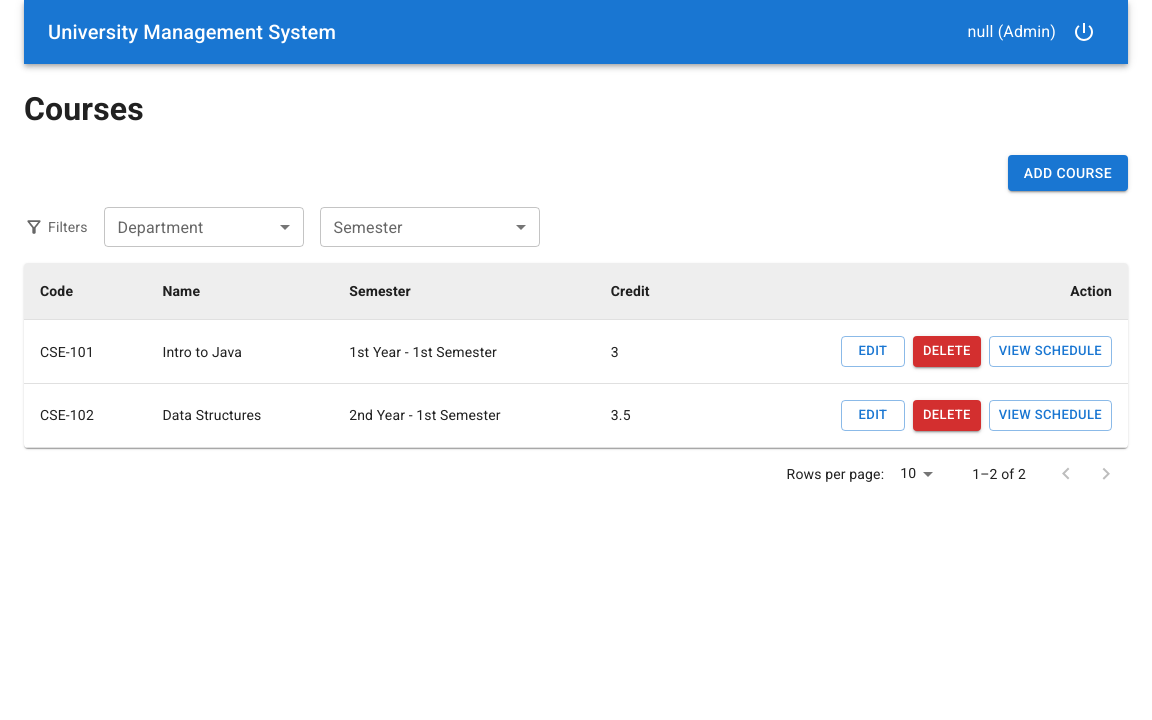
Test: CoursePage › sends PUT with correct payload on Update
Check: the text "Intro to Java" is shown, box x1=146 y1=320 x2=333 y2=384
Step 1. Click the button "Edit" in the row of "CSE-101" → (873, 352), box x1=841 y1=336 x2=905 y2=367
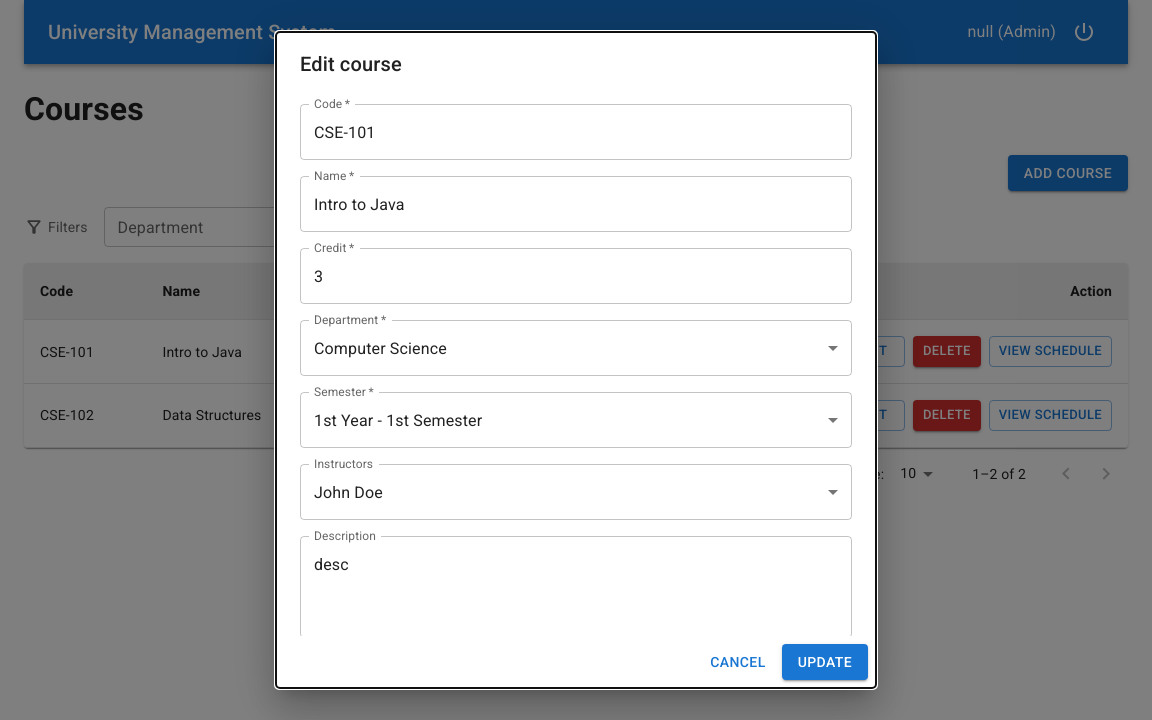
Step 2. Replace the text in the field labelled "Name *" with "Java Updated" → (576, 204), box x1=300 y1=176 x2=852 y2=232
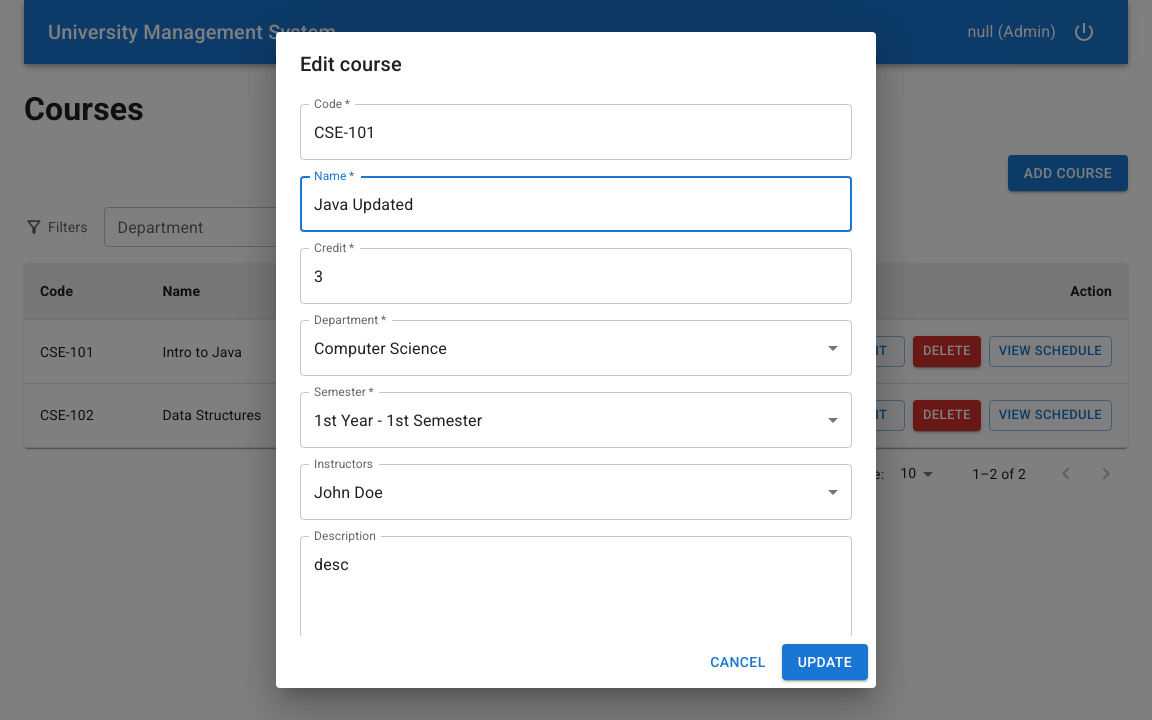
Step 3. Click the button "Update" → (825, 662), box x1=782 y1=644 x2=868 y2=680
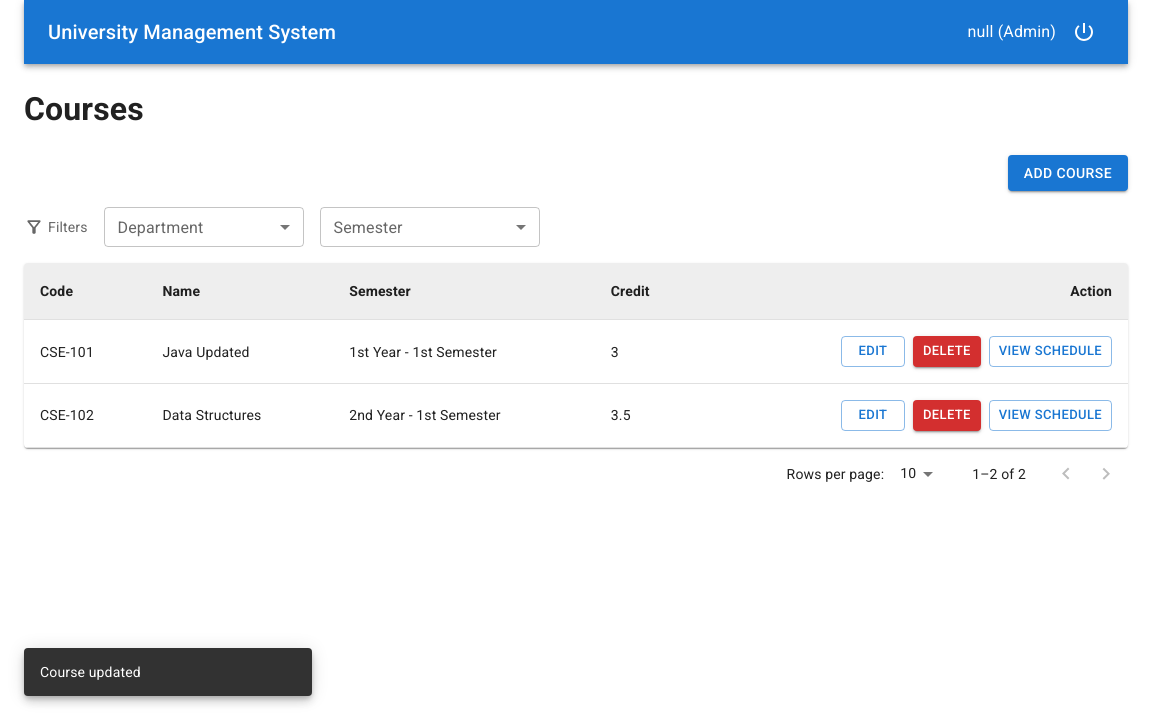
Check: the text "Course updated" is shown, box x1=40 y1=664 x2=141 y2=680
Check: the text "Java Updated" is shown, box x1=146 y1=320 x2=333 y2=384
